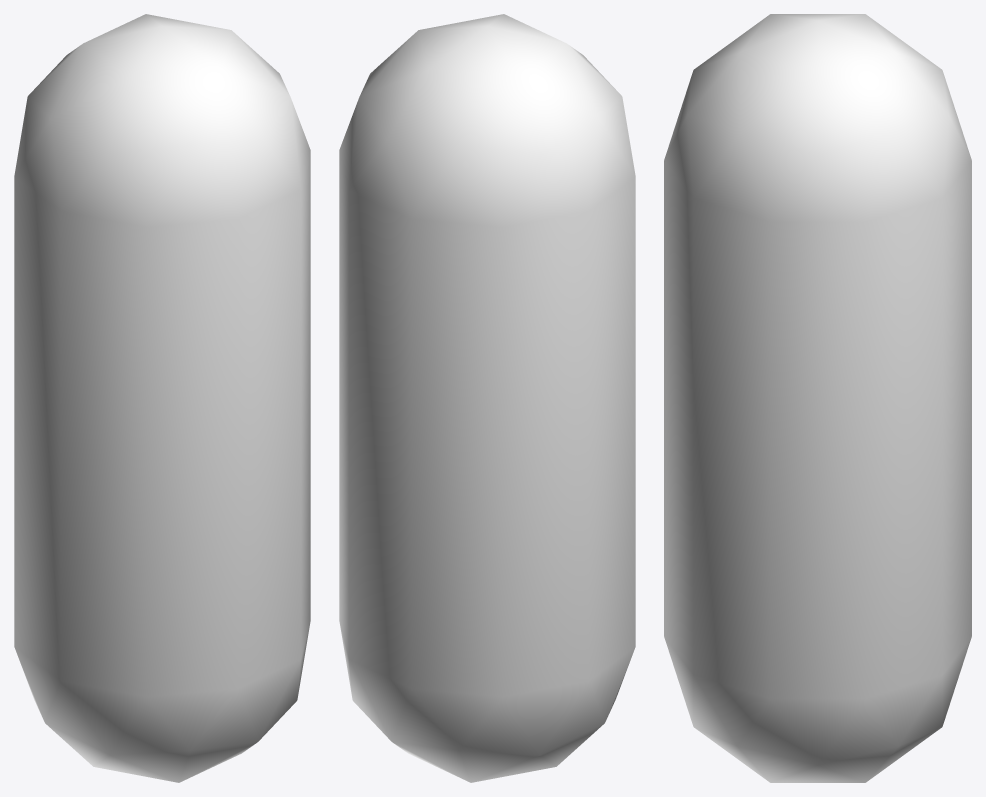
Rendered from Normal_Pill.fbx.
3 views of the same model, side by side, from view 1: azimuth 30°, elevation 25°; view 2: azimuth 150°, elevation 25°; view 3: azimuth 270°, elevation 25° (orthographic).
Parts seen in each view (by area): view 1: Icosphere; view 2: Icosphere; view 3: Icosphere.
Boxes of the visible parts, box(x1,y1,x2,y2) form: Icosphere: box(14, 14, 310, 782); Icosphere: box(339, 14, 635, 782); Icosphere: box(664, 14, 971, 782).
Size of the model in its own units: 190 by 542 by 200.
